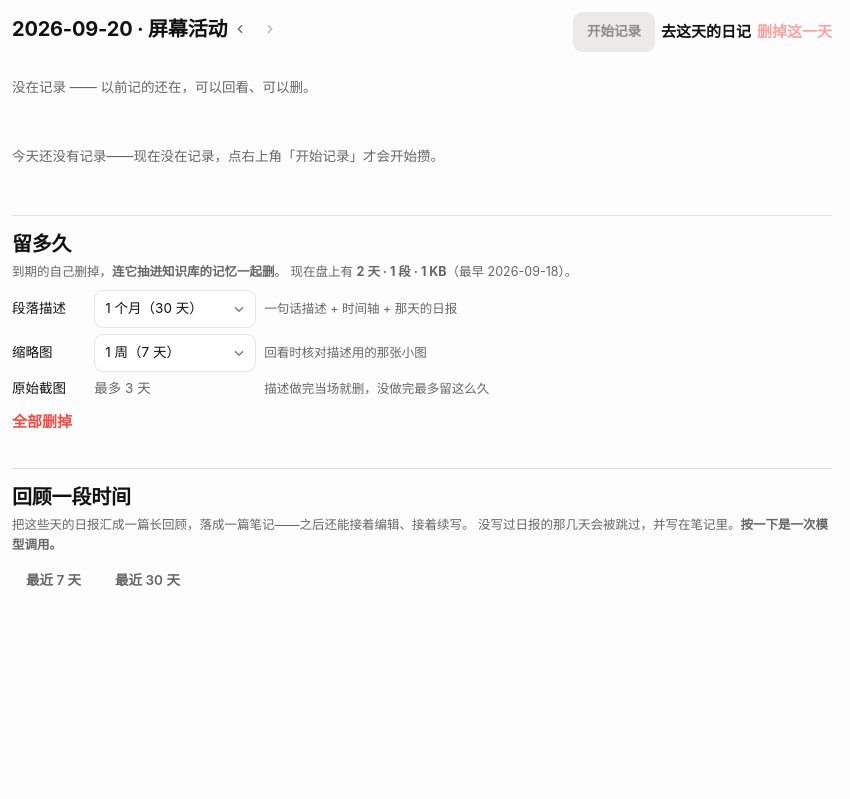
Test: P52 · 段删光了只剩日报的那一天 › 「删掉这一天」不再置灰 —— 后端把它列出来了，就得删得掉
The image size is (850, 799).
Click the button named "上一条记录". click: (245,29)
box: top-left (233, 17), bottom-right (257, 41)
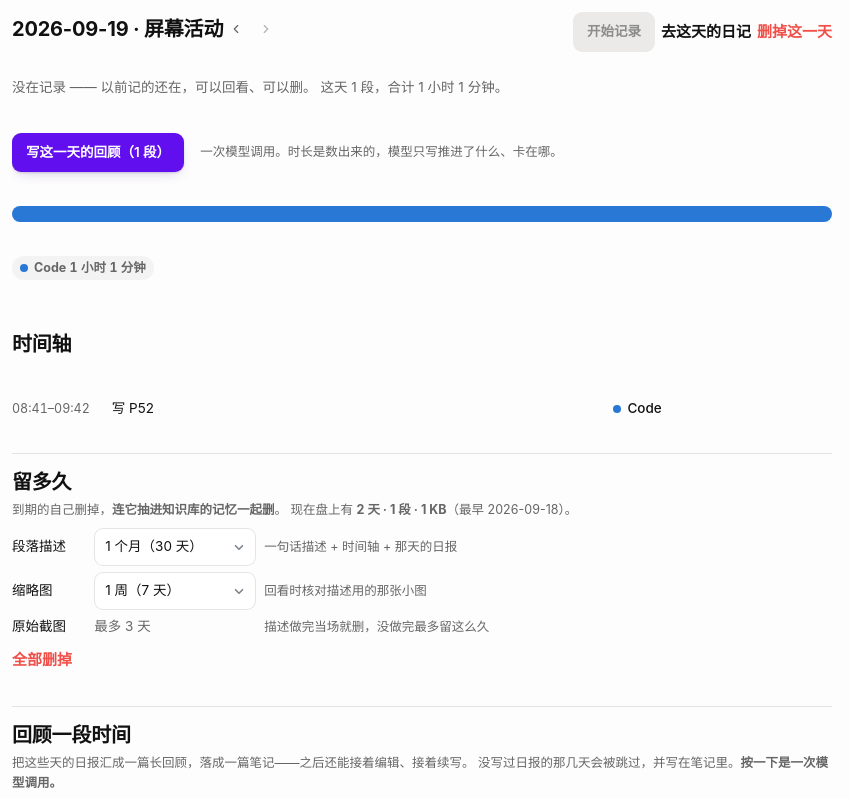
Click the button named "上一条记录". click: (241,29)
box: top-left (229, 17), bottom-right (253, 41)
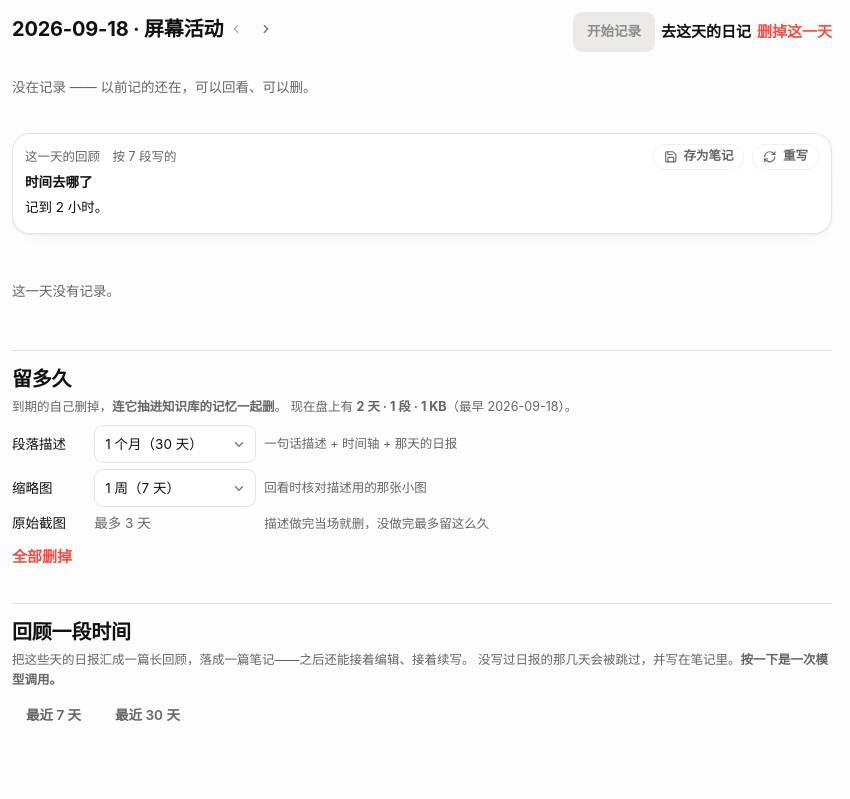
Expected: the button "删掉这一天" is enabled, top-left (757, 20), bottom-right (832, 44)
Expected: the heading "2026-09-18 · 屏幕活动" is shown, top-left (12, 13), bottom-right (223, 45)
Expected: the element with class "journey-report" is shown, top-left (12, 133), bottom-right (832, 234)
